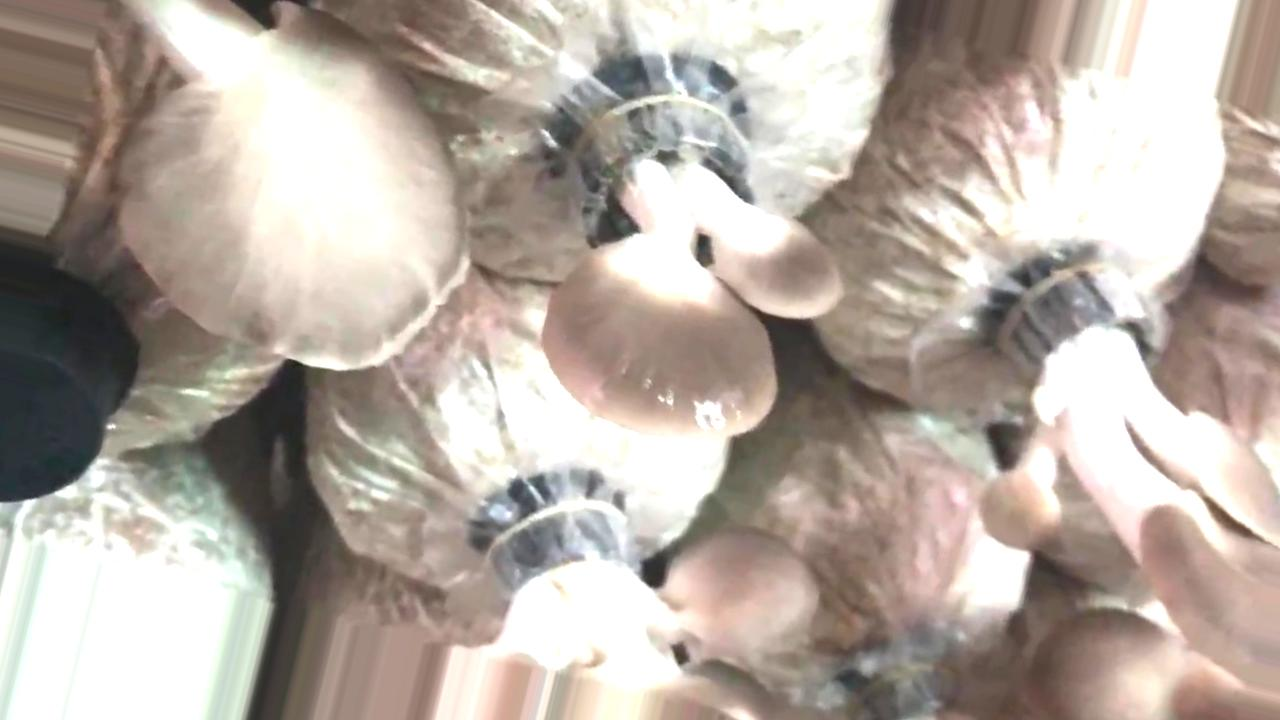nam: (125, 1, 468, 377), (978, 273, 1280, 689), (539, 96, 848, 434), (450, 506, 830, 720)
